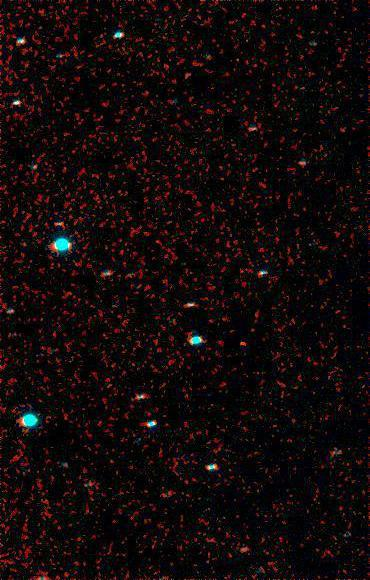star: (228, 329, 258, 359)
